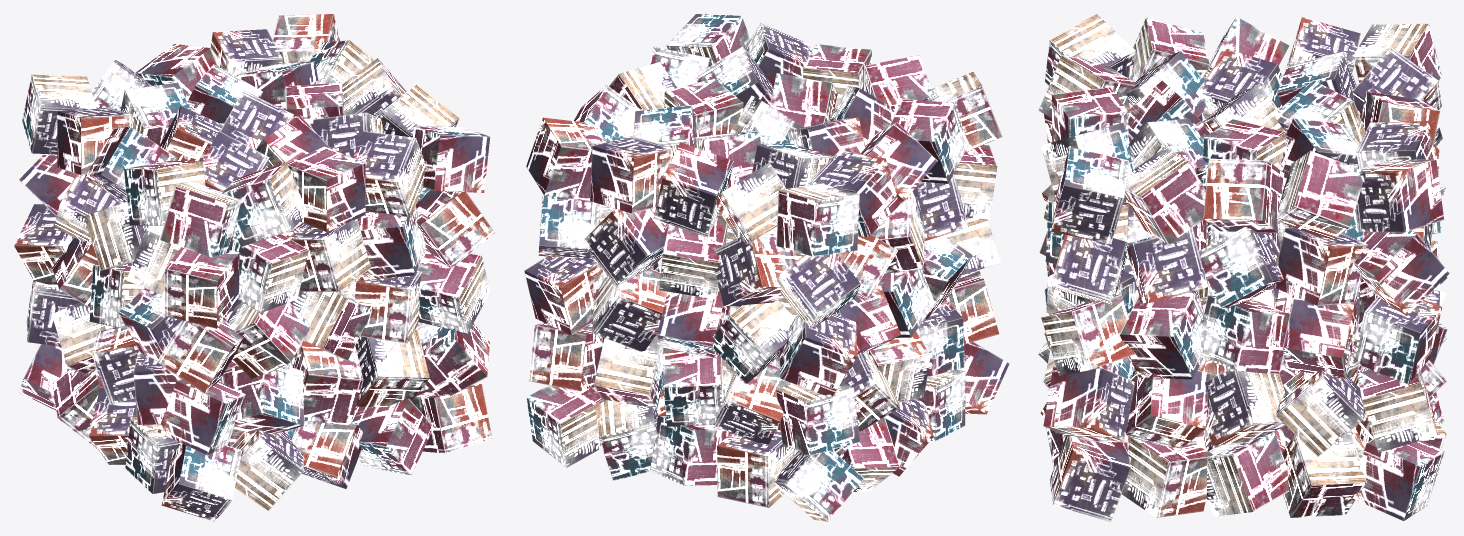
File: Cubist_Art_Sculpture.glb
The picture shows the model from 3 angles, left to right: view 1: azimuth 30°, elevation 25°; view 2: azimuth 150°, elevation 25°; view 3: azimuth 270°, elevation 25°; orthographic projection. The views are drawn at different scales.
Parts seen in each view (by area): view 1: c_-2_-2_1__0, c_0_-2_2__0, c_1_-2_2__0, c_-2_-2_-2__0, c_2_-2_0__0, c_-2_-2_2__0, c_-1_-2_2__0, c_-2_-2_-1__0, c_1_-2_-2__0, c_-1_-2_1__0, c_1_-2_-1__0, c_2_-2_2__0 (+49 smaller); view 2: c_-2_2_2__0, c_1_2_2__0, c_0_2_2__0, c_-2_2_0__0, c_-2_2_-1__0, c_2_2_0__0, c_2_2_-2__0, c_2_2_2__0, c_1_2_0__0, c_-1_2_-2__0, c_-1_2_1__0, c_1_2_1__0 (+49 smaller); view 3: c_2_-1_0__0, c_2_2_2__0, c_2_-2_2__0, c_2_-2_-1__0, c_2_1_2__0, c_2_-1_-2__0, c_2_0_0__0, c_2_1_1__0, c_2_-1_2__0, c_2_0_-2__0, c_2_0_2__0, c_2_2_0__0 (+41 smaller).
Boxes of the visible parts, x1=… form: c_-2_-2_1__0: x1=164, y1=247, x2=239, y2=328; c_0_-2_2__0: x1=287, y1=146, x2=365, y2=232; c_1_-2_2__0: x1=353, y1=131, x2=425, y2=217; c_-2_-2_-2__0: x1=161, y1=443, x2=242, y2=521; c_2_-2_0__0: x1=417, y1=249, x2=490, y2=333; c_-2_-2_2__0: x1=160, y1=181, x2=241, y2=257; c_-1_-2_2__0: x1=223, y1=161, x2=307, y2=246; c_-2_-2_-1__0: x1=158, y1=378, x2=245, y2=455; c_1_-2_-2__0: x1=351, y1=398, x2=431, y2=475; c_-1_-2_1__0: x1=229, y1=234, x2=308, y2=312; c_1_-2_-1__0: x1=355, y1=329, x2=429, y2=407; c_2_-2_2__0: x1=412, y1=125, x2=490, y2=192; c_-2_2_2__0: x1=776, y1=183, x2=859, y2=256; c_1_2_2__0: x1=590, y1=136, x2=673, y2=213; c_0_2_2__0: x1=653, y1=142, x2=733, y2=237; c_-2_2_0__0: x1=779, y1=314, x2=856, y2=396; c_-2_2_-1__0: x1=776, y1=382, x2=860, y2=455; c_2_2_0__0: x1=524, y1=256, x2=606, y2=335; c_2_2_-2__0: x1=526, y1=385, x2=605, y2=467; c_2_2_2__0: x1=526, y1=117, x2=606, y2=200; c_1_2_0__0: x1=592, y1=268, x2=667, y2=351; c_-1_2_-2__0: x1=717, y1=429, x2=794, y2=507; c_-1_2_1__0: x1=714, y1=233, x2=795, y2=306; c_1_2_1__0: x1=584, y1=207, x2=668, y2=286; c_2_-1_0__0: x1=1119, y1=292, x2=1204, y2=379; c_2_2_2__0: x1=1355, y1=159, x2=1444, y2=232; c_2_-2_2__0: x1=1051, y1=147, x2=1129, y2=244; c_2_-2_-1__0: x1=1043, y1=366, x2=1134, y2=442; c_2_1_2__0: x1=1277, y1=150, x2=1363, y2=239; c_2_-1_-2__0: x1=1121, y1=437, x2=1212, y2=517; c_2_0_0__0: x1=1200, y1=295, x2=1289, y2=374; c_2_1_1__0: x1=1272, y1=227, x2=1367, y2=305; c_2_-1_2__0: x1=1124, y1=147, x2=1205, y2=244; c_2_0_-2__0: x1=1206, y1=432, x2=1288, y2=516; c_2_0_2__0: x1=1203, y1=158, x2=1284, y2=233; c_2_2_0__0: x1=1352, y1=296, x2=1442, y2=384.
Bounding box in the file's own units: 13.46 × 13.4 × 13.41.
1 material, 1 textured.
